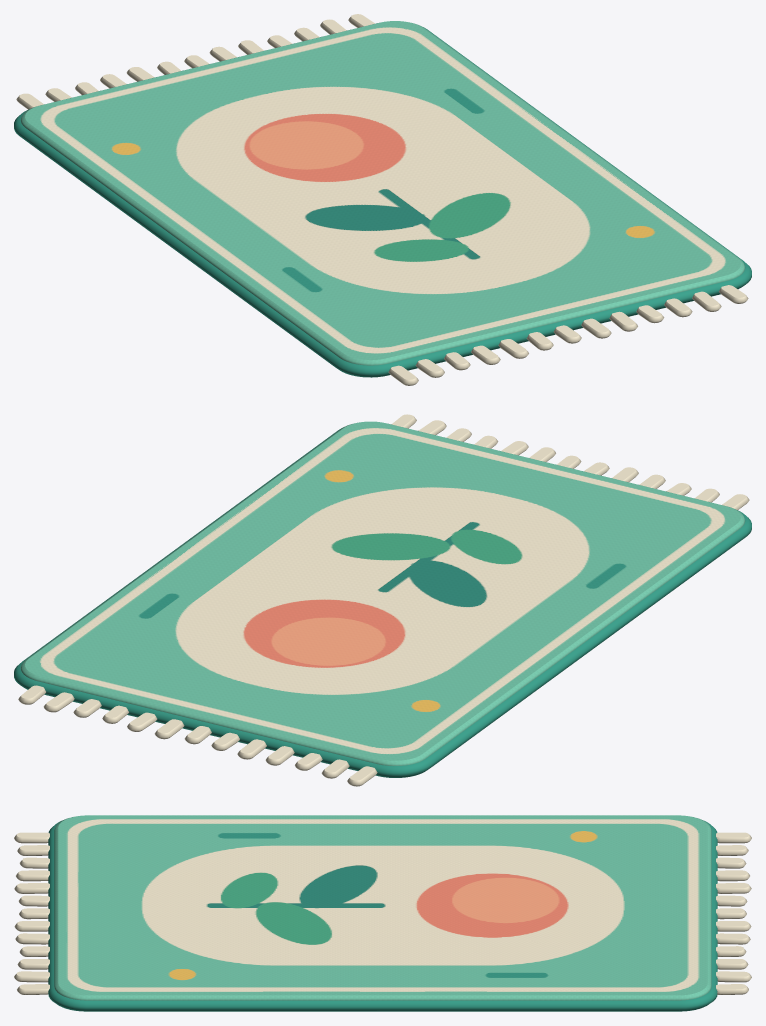
File: mint_meadow.glb
3 renders of one model, top to bottom at view 1: azimuth 30°, elevation 25°; view 2: azimuth 150°, elevation 25°; view 3: azimuth 270°, elevation 25°, orthographic. The views are drawn at different scales.
Parts seen in each view (by area): view 1: Carpet_Pile, Carpet_Binding, Carpet_Fringe; view 2: Carpet_Pile, Carpet_Binding, Carpet_Fringe; view 3: Carpet_Pile, Carpet_Binding, Carpet_Fringe.
Part boxes in pixels (x1=…): Carpet_Pile: x1=20, y1=21, x2=745, y2=365; Carpet_Binding: x1=14, y1=27, x2=751, y2=377; Carpet_Fringe: x1=16, y1=14, x2=748, y2=385; Carpet_Pile: x1=20, y1=421, x2=745, y2=766; Carpet_Binding: x1=14, y1=428, x2=751, y2=777; Carpet_Fringe: x1=18, y1=414, x2=749, y2=786; Carpet_Pile: x1=54, y1=815, x2=711, y2=1000; Carpet_Binding: x1=48, y1=820, x2=717, y2=1011; Carpet_Fringe: x1=14, y1=832, x2=751, y2=994.
Size of the model in its own units: 2 by 0.067 by 3.31.
3 materials, 1 textured.
